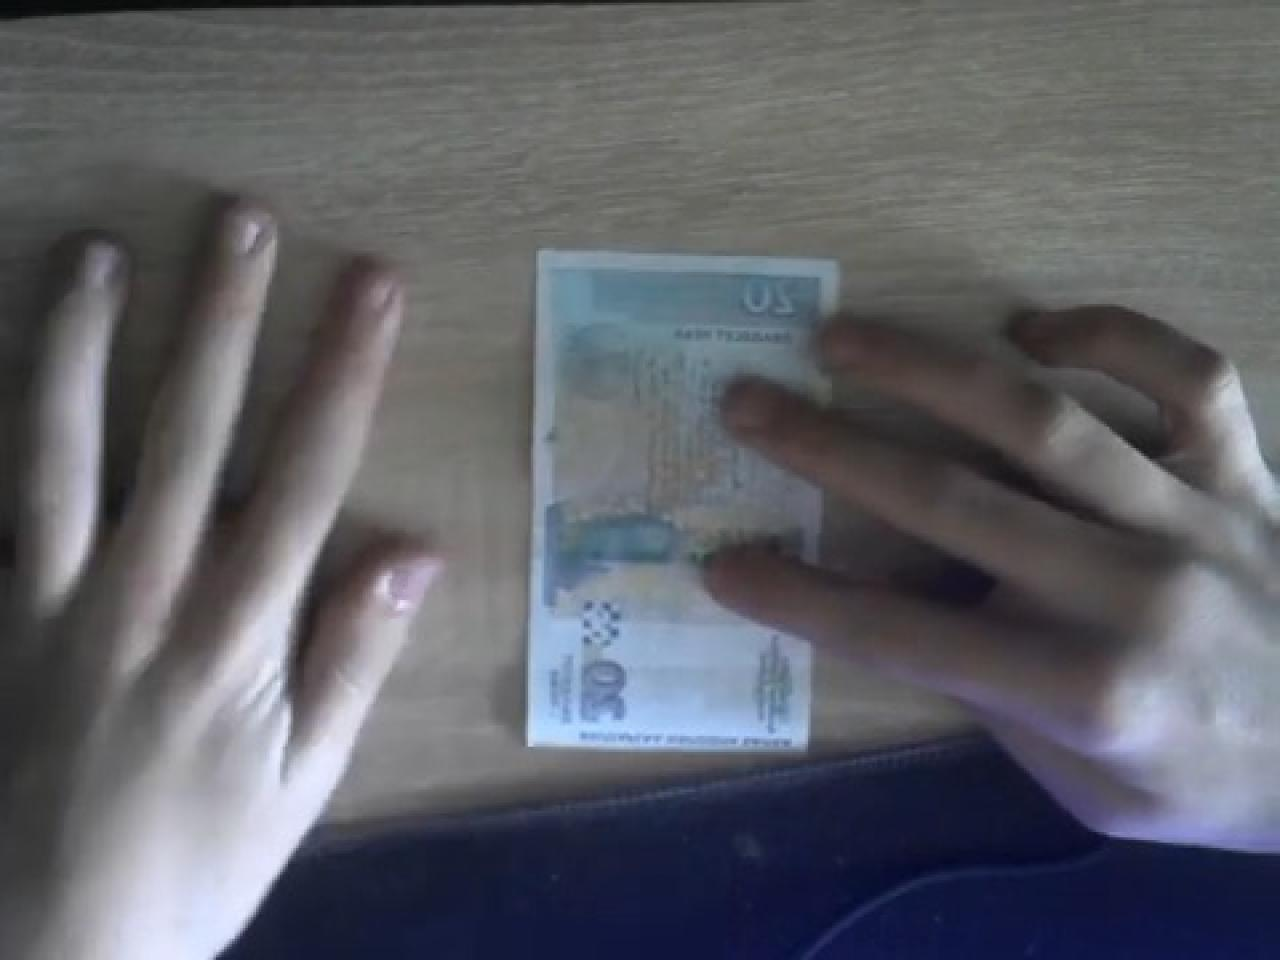20leva: (517, 245, 843, 754)
